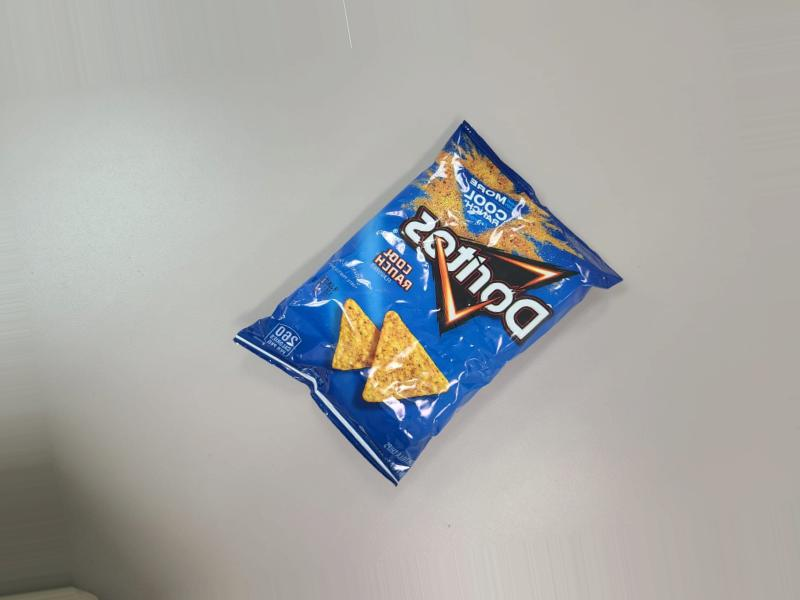doritos: (263, 99, 606, 490)
